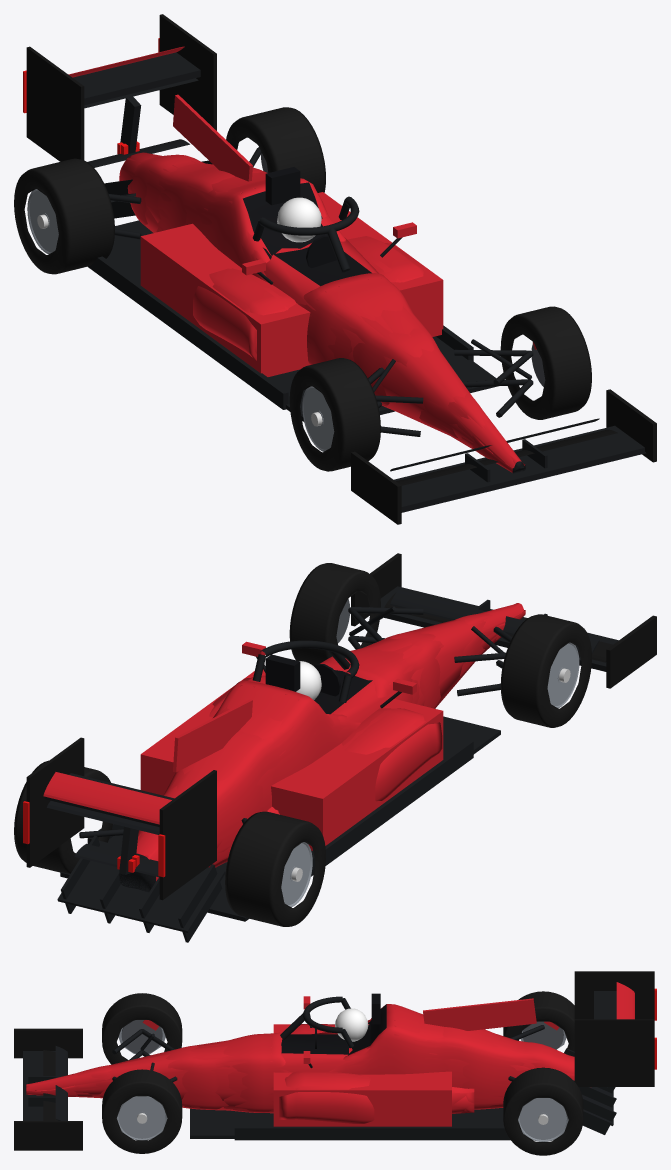
The model's file is f1.raw.glb.
3 renders of one model, top to bottom at view 1: azimuth 30°, elevation 25°; view 2: azimuth 150°, elevation 25°; view 3: azimuth 270°, elevation 25°, orthographic. The views are drawn at different scales.
Parts seen in each view (by area): view 1: body (×3), rubber (×7), carbon (×2), paint (×3), accent, rim (×2), black, helmet; view 2: body (×3), rubber (×7), carbon (×2), paint (×3), accent, rim (×2), black, helmet, taillight; view 3: body (×3), paint (×3), rubber (×8), carbon (×2), accent, rim (×2), disc (×3), helmet, black.
Part boxes in pixels (box(x1,y1,x2,y2)): body (×3): box(119, 152, 525, 473); rubber (×7): box(14, 107, 591, 471); carbon (×2): box(73, 52, 645, 512); paint (×3): box(68, 46, 443, 376); accent: box(26, 14, 656, 524); rim (×2): box(27, 189, 334, 451); black: box(265, 167, 336, 267); helmet: box(277, 197, 321, 242); body (×3): box(119, 603, 525, 892); rubber (×7): box(14, 563, 591, 926); carbon (×2): box(44, 586, 618, 942); paint (×3): box(43, 641, 443, 850); accent: box(26, 553, 656, 900); rim (×2): box(281, 642, 579, 907); black: box(265, 654, 340, 696); helmet: box(296, 661, 321, 699); taillight: box(23, 801, 165, 877); body (×3): box(26, 1004, 574, 1113); paint (×3): box(273, 982, 634, 1126); rubber (×8): box(102, 991, 583, 1155); carbon (×2): box(23, 991, 616, 1140); accent: box(14, 971, 654, 1150); rim (×2): box(116, 1096, 568, 1141); disc (×3): box(121, 1020, 563, 1053); helmet: box(335, 1008, 368, 1041); black: box(315, 993, 380, 1048).
Bounding box in the file's own units: 2 × 1.17 × 5.77.
